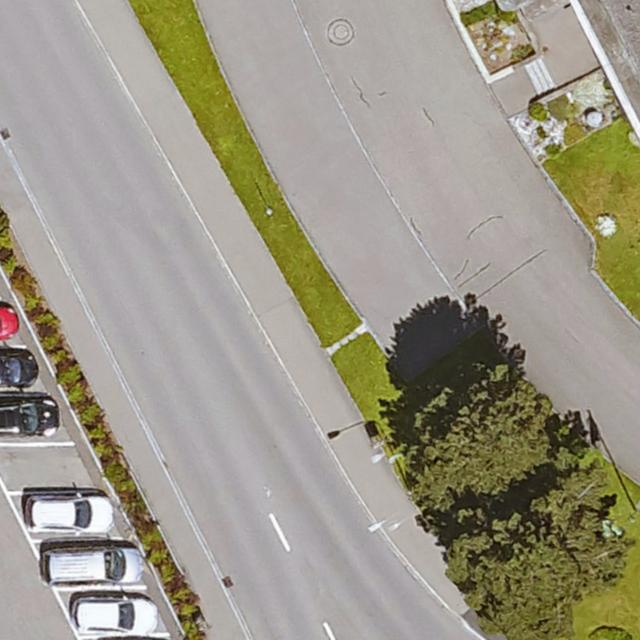tree: (447, 463, 628, 639), (406, 374, 555, 505)
